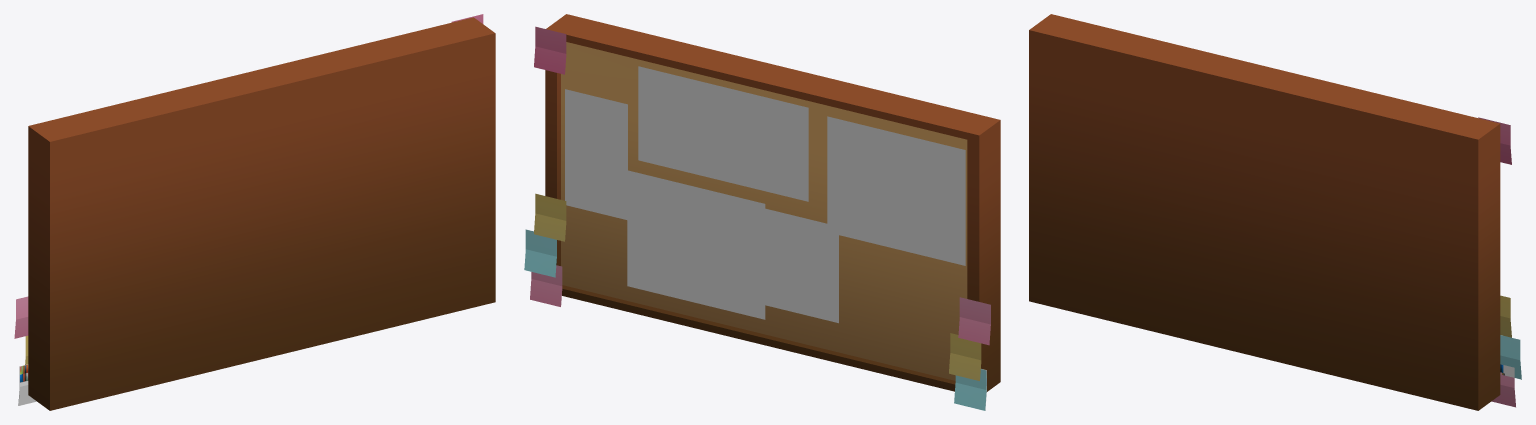
File: Clipboard.fbx
3 renders of one model, left to right at view 1: azimuth 30°, elevation 25°; view 2: azimuth 150°, elevation 25°; view 3: azimuth 330°, elevation 25°, orthographic. The views are drawn at different scales.
Visible parts, largest first — view 1: Cube; view 2: Cube; view 3: Cube.
Boxes of the visible parts, box(x1,y1,x2,y2) form: Cube: box(14, 14, 495, 410); Cube: box(524, 14, 1000, 410); Cube: box(1029, 14, 1521, 410).
Bounding box in the file's own units: 80.38 × 143 × 12.35.
Materials: 2 (2 with a texture image).
